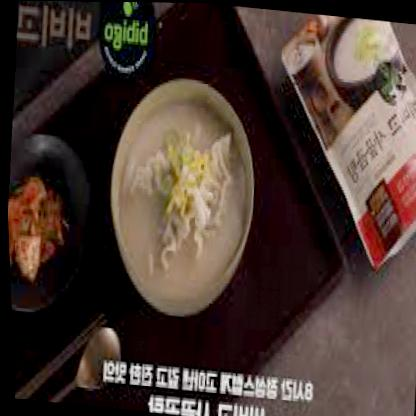Kimchi stew: (5, 168, 70, 291)
beef-bone soup: (107, 88, 253, 302)
